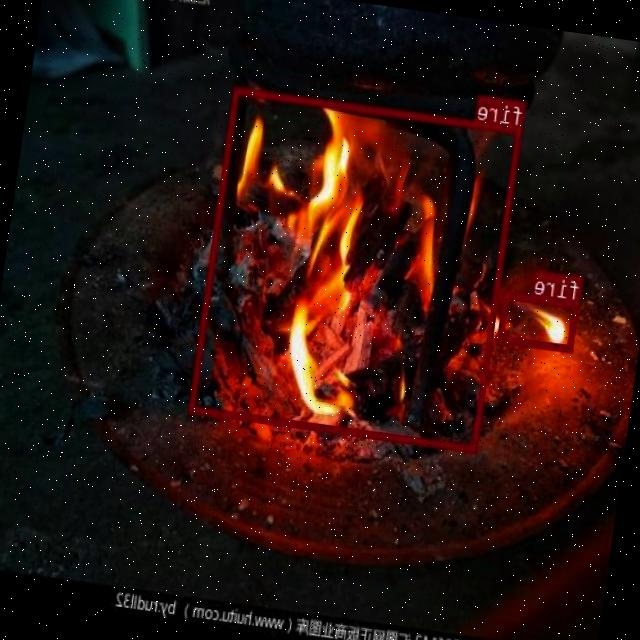fire: (190, 87, 524, 452), (498, 290, 580, 352)
